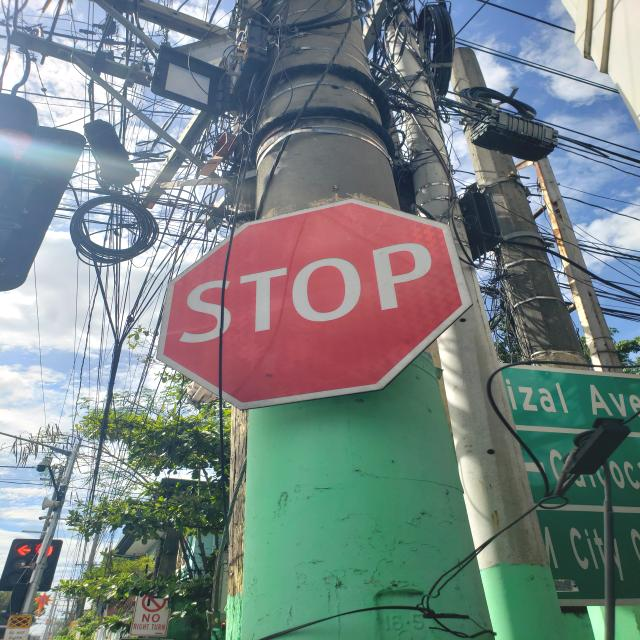stop-sign: (156, 197, 474, 411)
